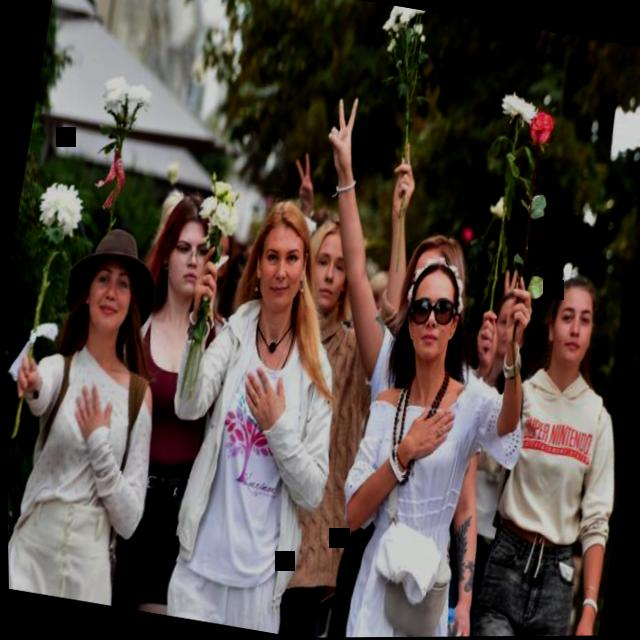NO-Mask: (400, 271, 463, 367), (249, 221, 308, 314), (78, 255, 137, 342), (545, 287, 597, 374), (159, 216, 211, 302), (306, 231, 351, 312), (489, 297, 514, 357)
